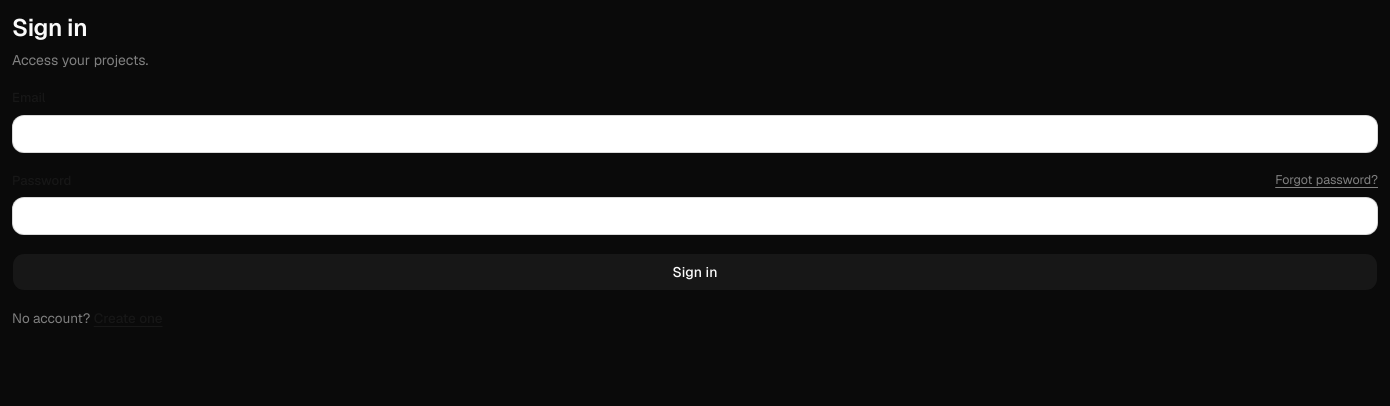
Test case: SignInForm › shows a generic message when the password is wrong
This screenshot has width=1390, height=406.
Type "ada@example.com" into the field labelled "Email". click: {"x": 695, "y": 134}
box: [12,114,1378,152]
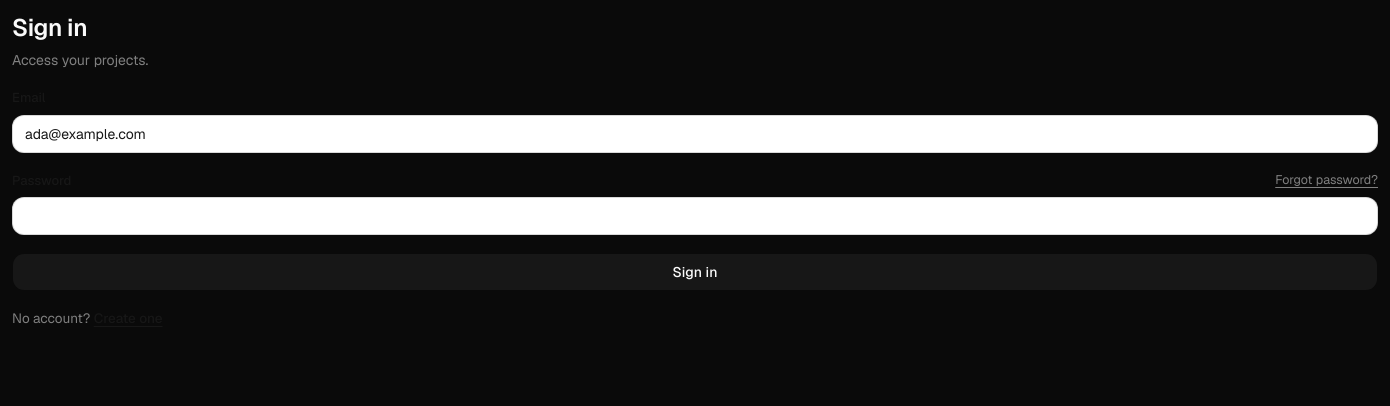
Type "not-the-password" into the password field labelled "Password". click: {"x": 695, "y": 216}
box: [12,197,1378,235]
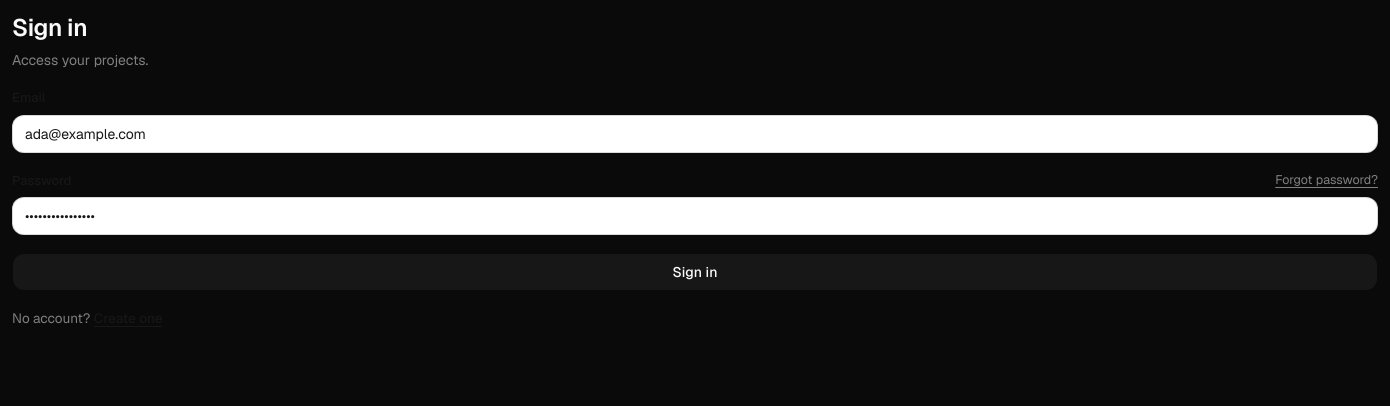
Click the button "Sign in". click: {"x": 695, "y": 272}
box: [12,253,1378,291]
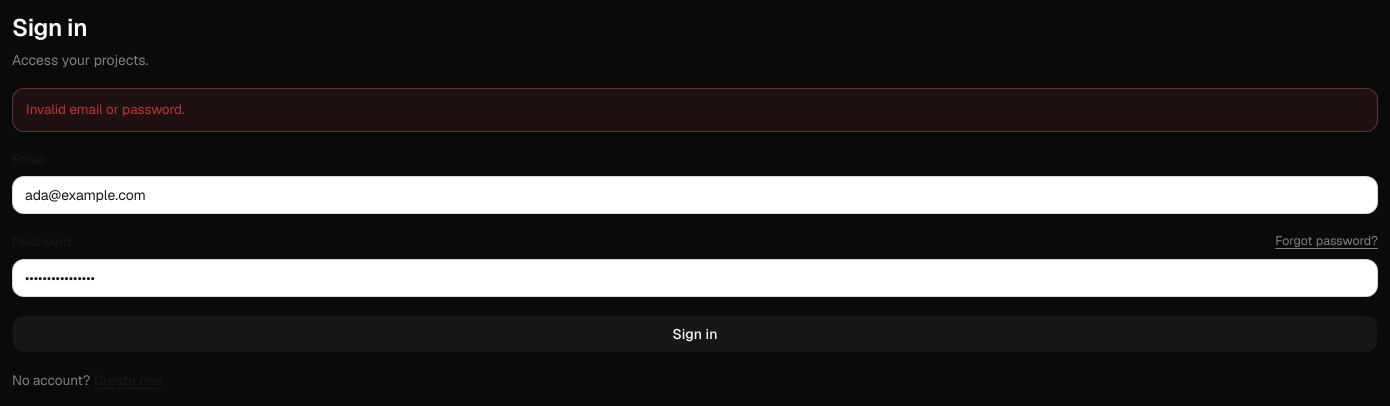
Result: the message reads "Invalid email or password." at [26,100,185,118]
